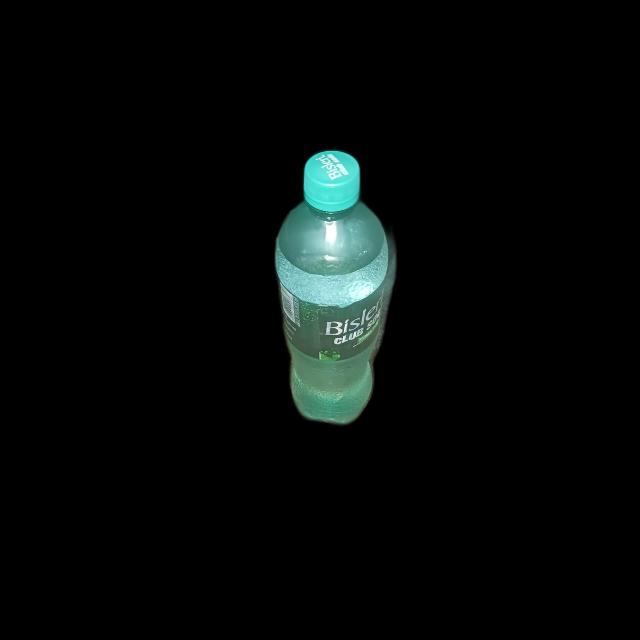Bisleri Club Soda - 750 ml: (270, 148, 404, 436)
